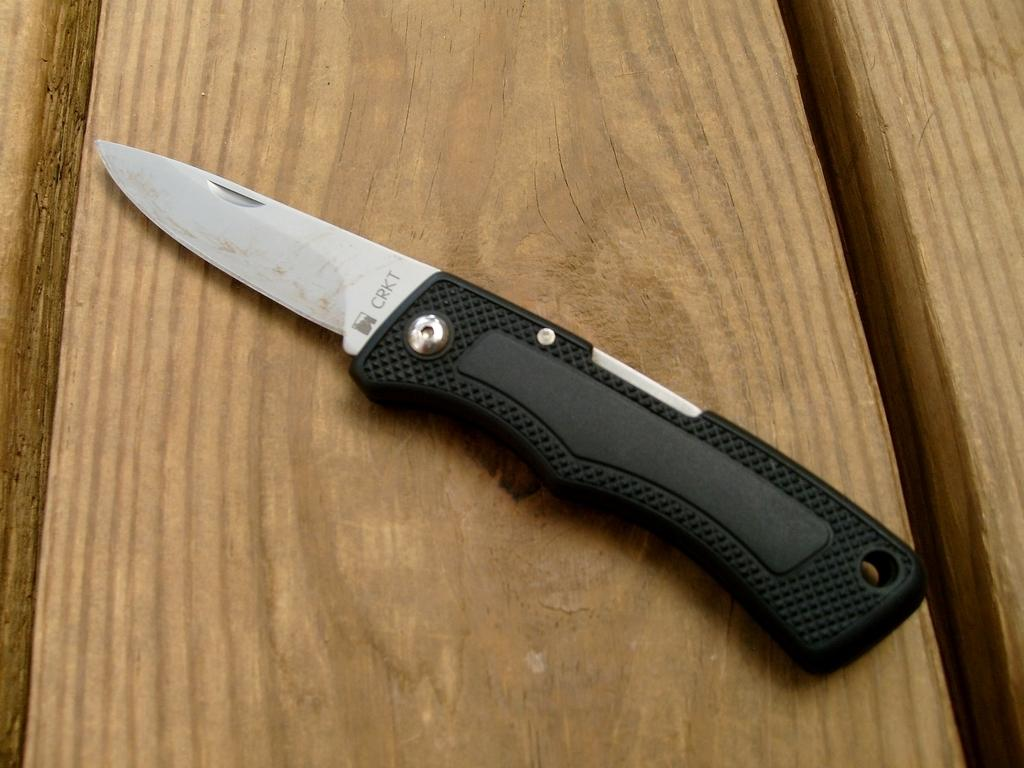Knife: (94, 136, 930, 681)
